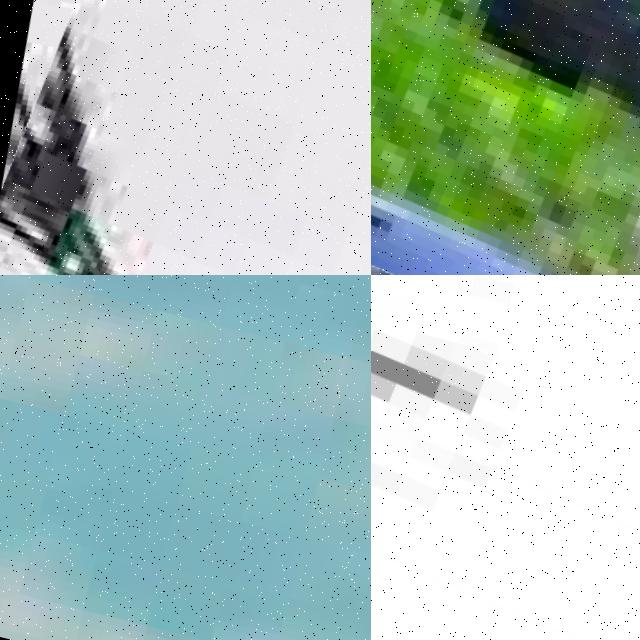drone: (0, 0, 371, 275), (371, 285, 640, 640), (371, 0, 640, 275)
